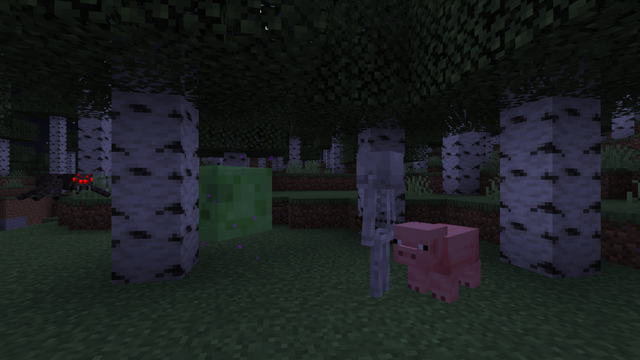araignees: (21, 170, 106, 201)
cochons: (420, 222, 492, 303)
slimes: (199, 163, 261, 239)
squelettes: (353, 151, 409, 303)
